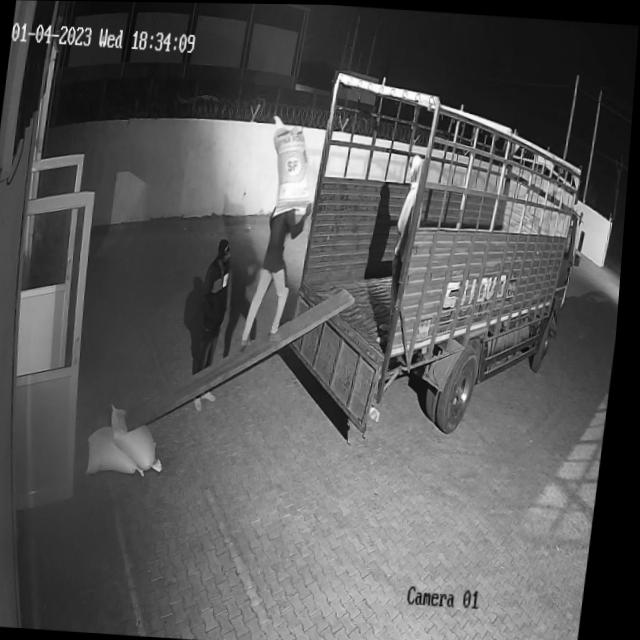sack: (264, 114, 322, 220), (110, 403, 176, 470), (90, 423, 156, 476)
